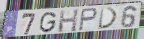6: (119, 5, 138, 29)
7: (22, 12, 37, 35)
D: (98, 7, 119, 30)
G: (38, 11, 58, 33)
H: (57, 9, 79, 34)
P: (78, 7, 99, 32)
